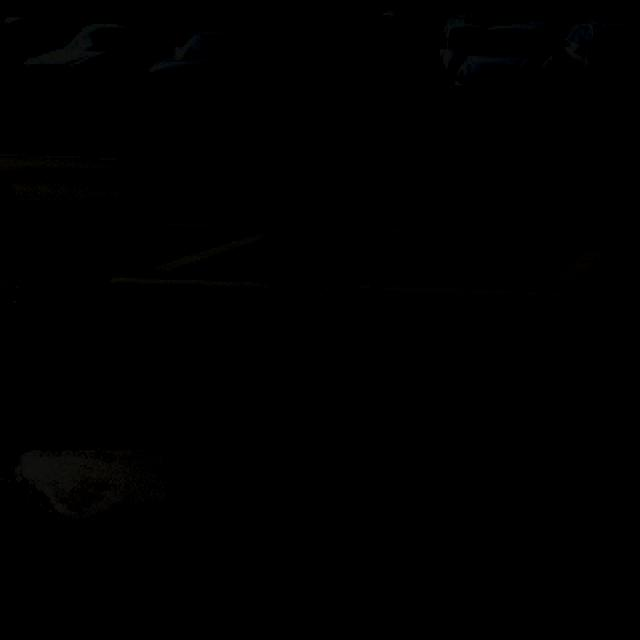Pothole: (243, 142, 442, 526)
